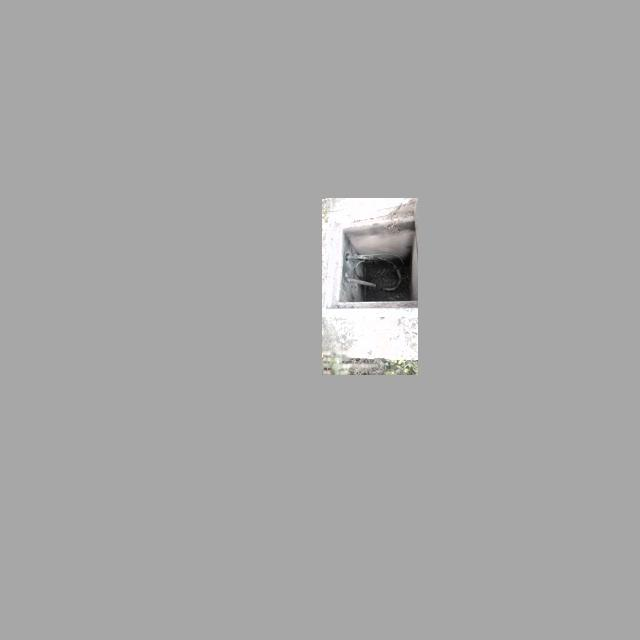lose: (325, 209, 418, 318)
